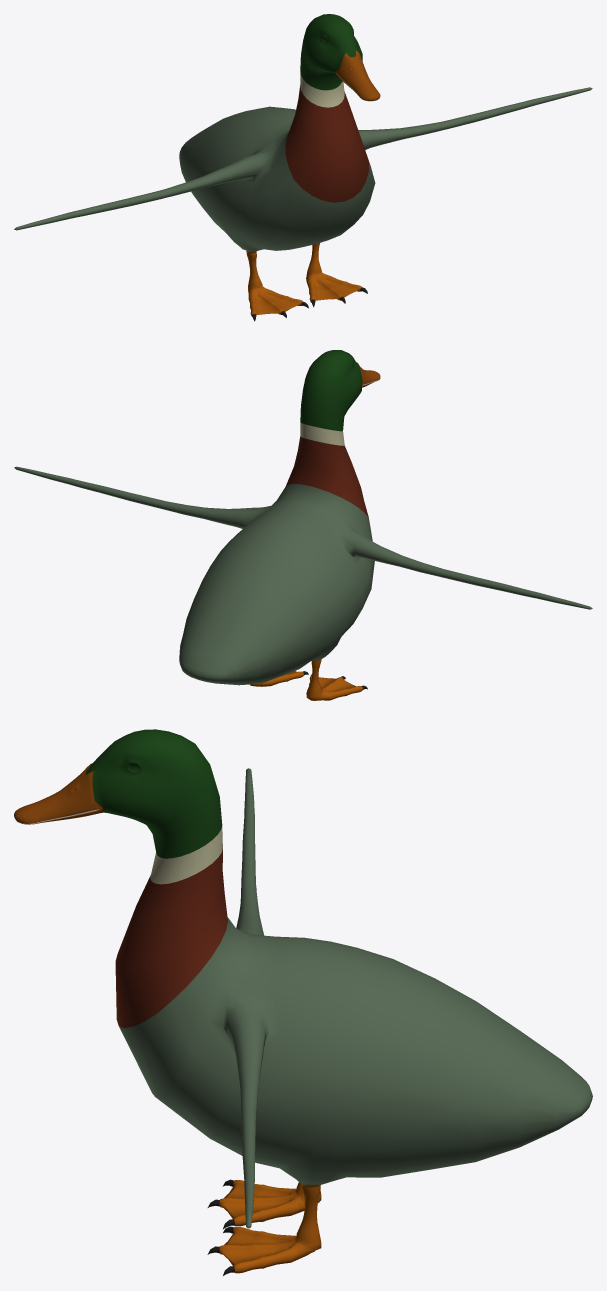
The model's file is duck_duck.obj.
3 views of the same model, one above another, from view 1: azimuth 30°, elevation 25°; view 2: azimuth 150°, elevation 25°; view 3: azimuth 270°, elevation 25° (orthographic). The views are drawn at different scales.
Visible parts, largest first — view 1: duck; view 2: duck; view 3: duck.
Part boxes in pixels (bbox=[...]): duck: bbox=[14, 14, 592, 321]; duck: bbox=[14, 350, 592, 700]; duck: bbox=[14, 729, 592, 1275].
Bounding box in the file's own units: 0.7839 × 0.3975 × 0.4173.
